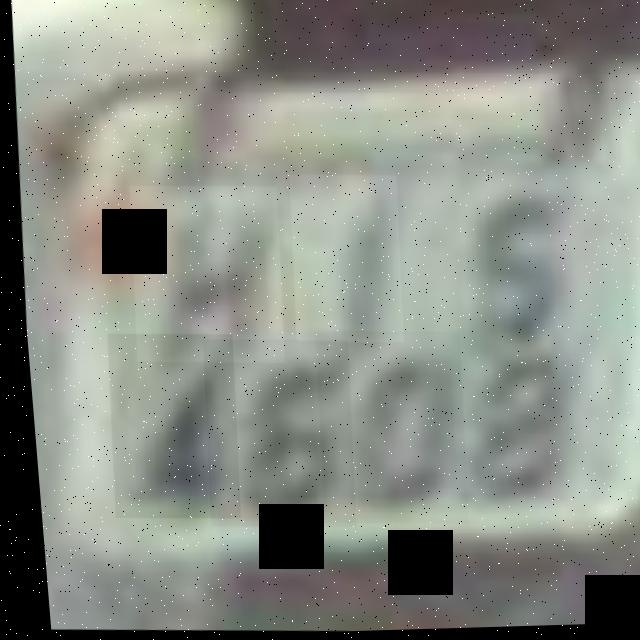0: (302, 329, 466, 529)
4: (94, 331, 238, 522)
6: (190, 337, 353, 532)
I: (280, 173, 404, 347)
N: (120, 182, 284, 367)
